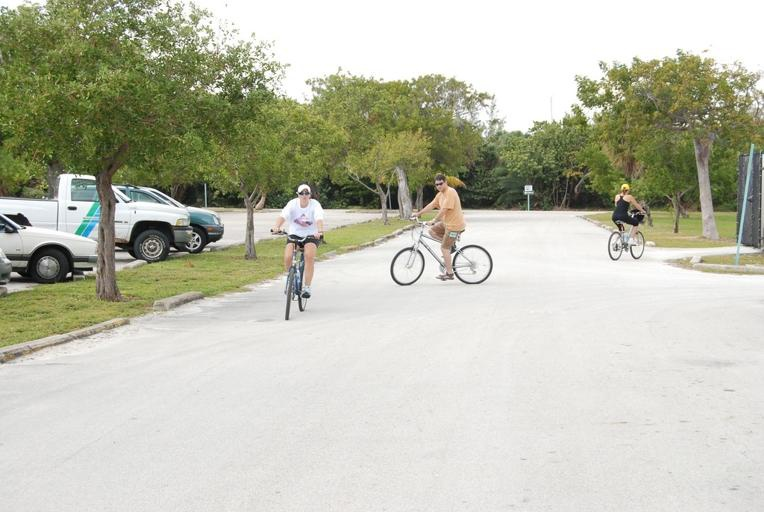non-vehicle: (389, 213, 494, 284), (269, 228, 328, 321), (606, 209, 647, 260)
